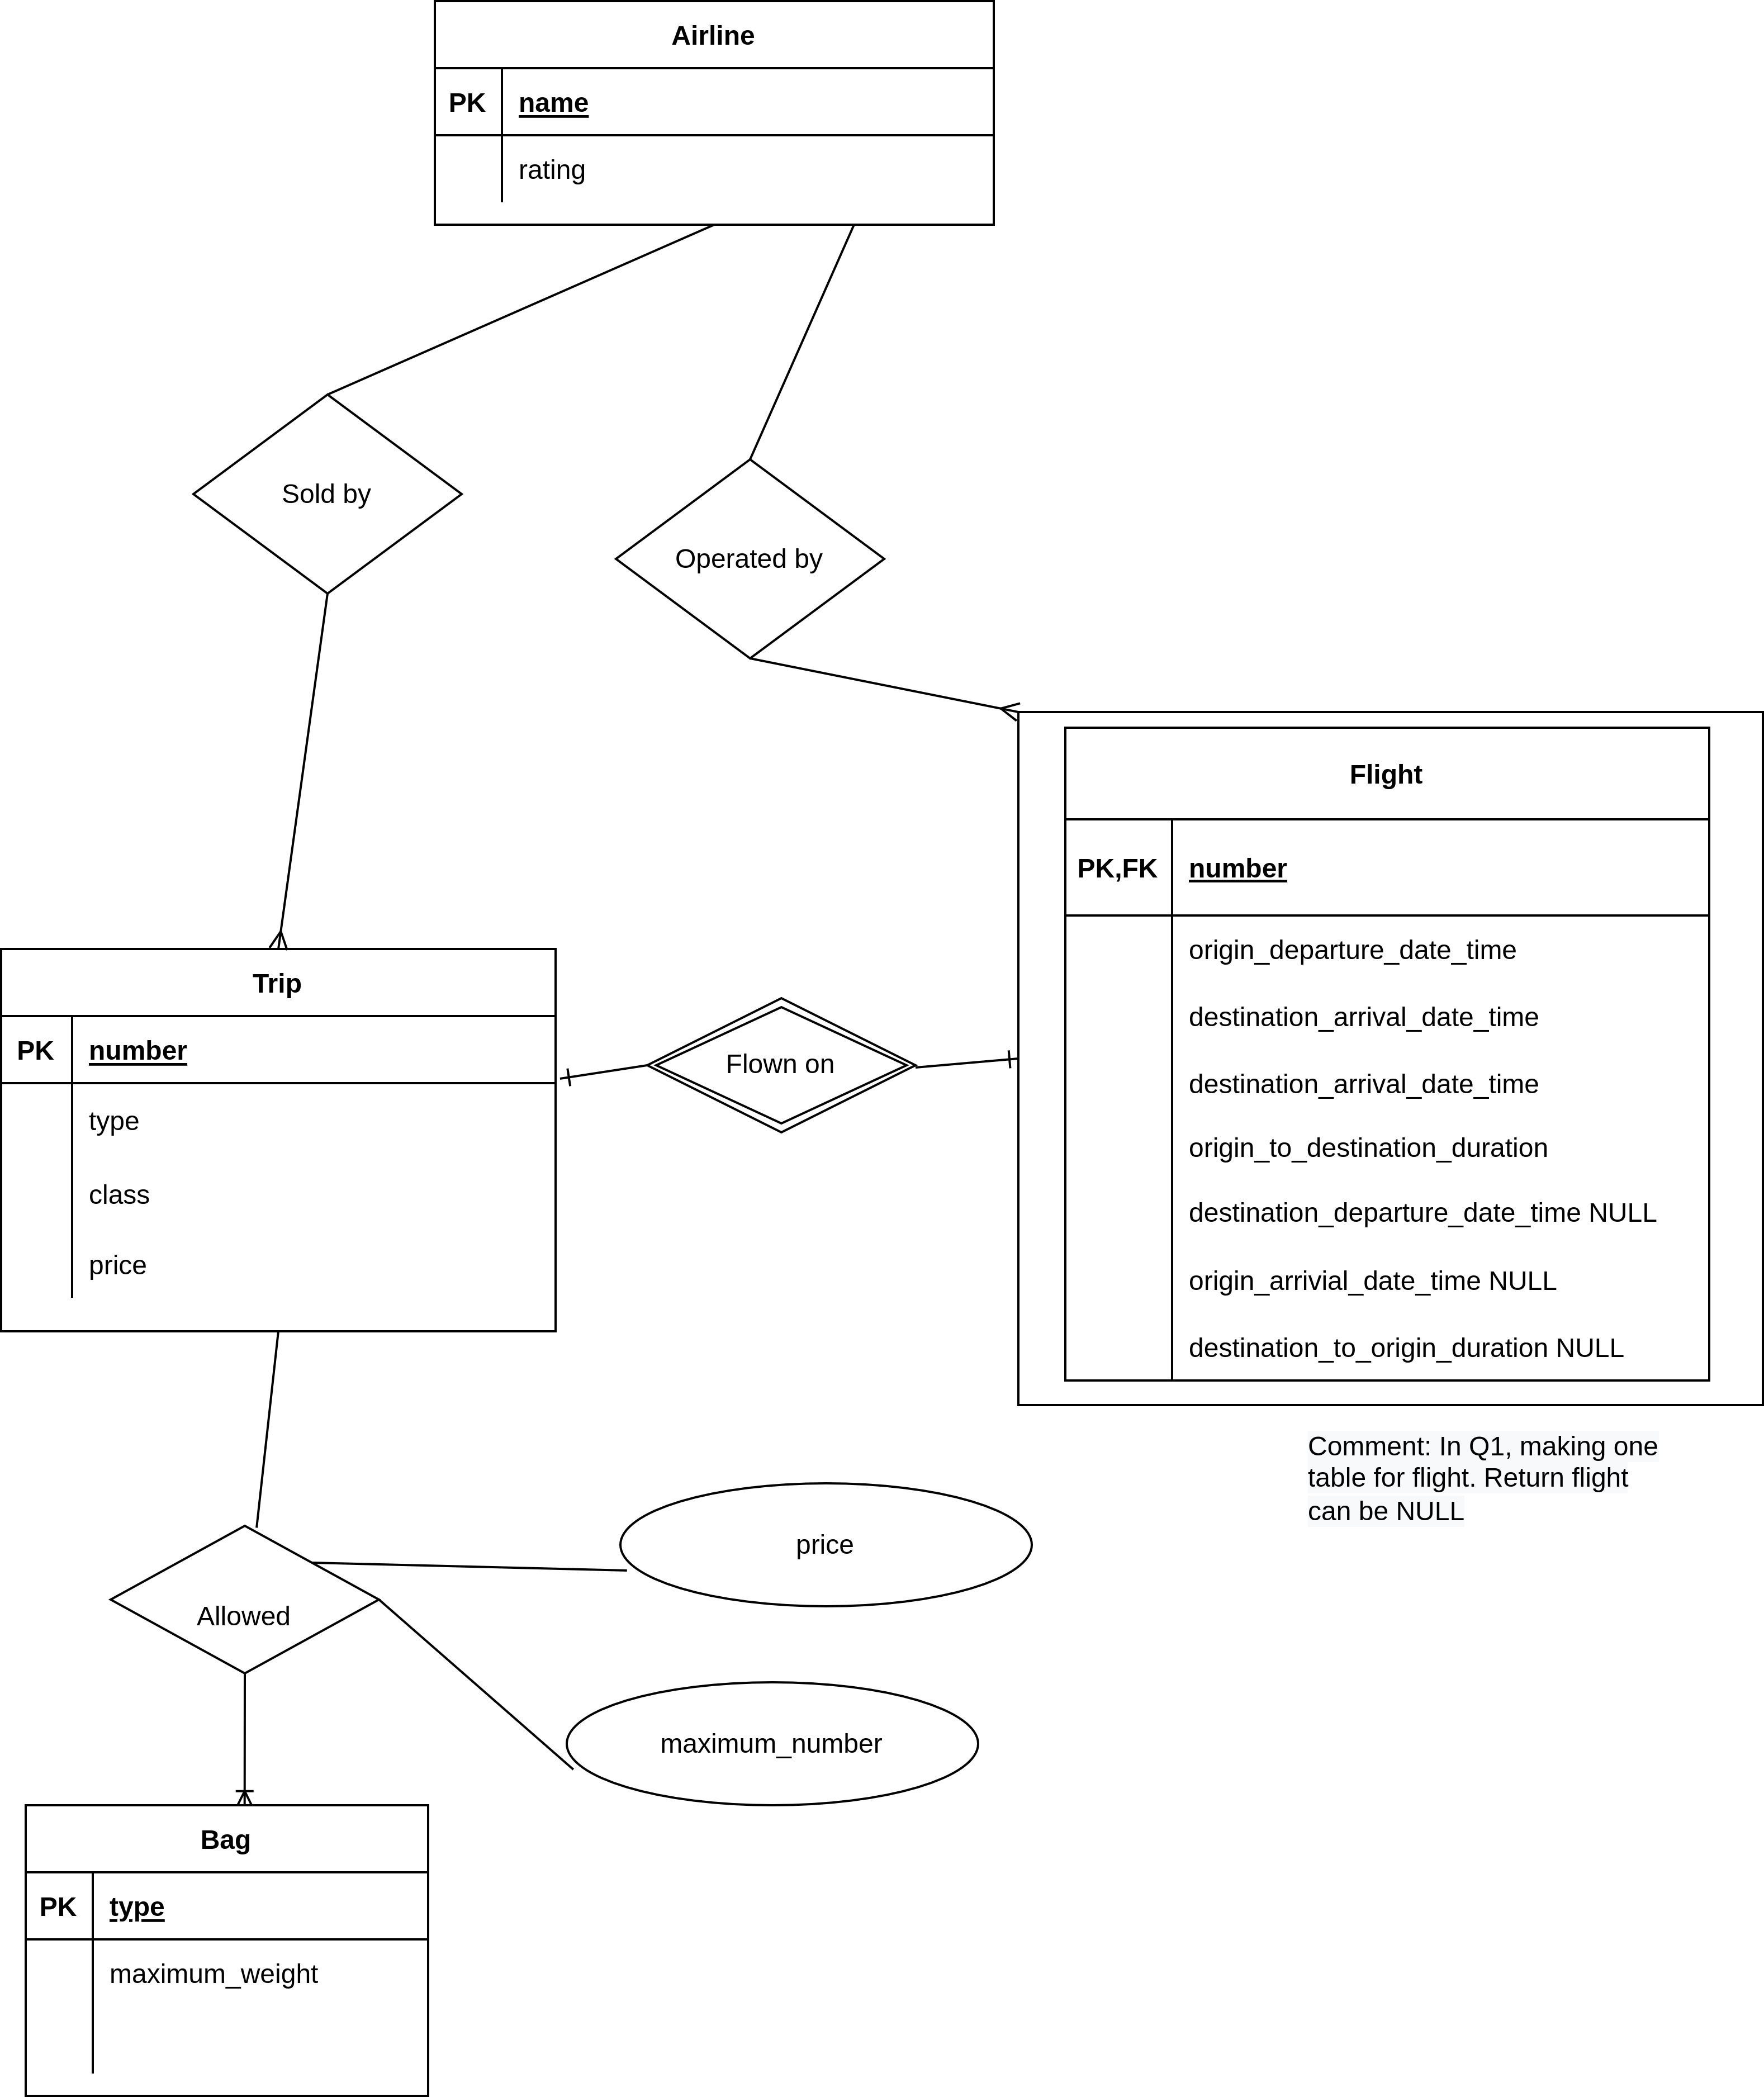entity: (0, 949, 558, 1336), (434, 2, 996, 222), (21, 1801, 429, 2097)
ident_rel: (647, 994, 917, 1134)
many: (238, 905, 325, 950), (213, 1764, 276, 1810)
one: (553, 1052, 616, 1099), (964, 1036, 1022, 1087)
rel: (611, 455, 887, 665), (194, 392, 462, 593), (107, 1528, 385, 1675)
rel_attr: (616, 1481, 1038, 1603), (565, 1684, 980, 1805)
weak_entity: (1018, 707, 1764, 1414)
